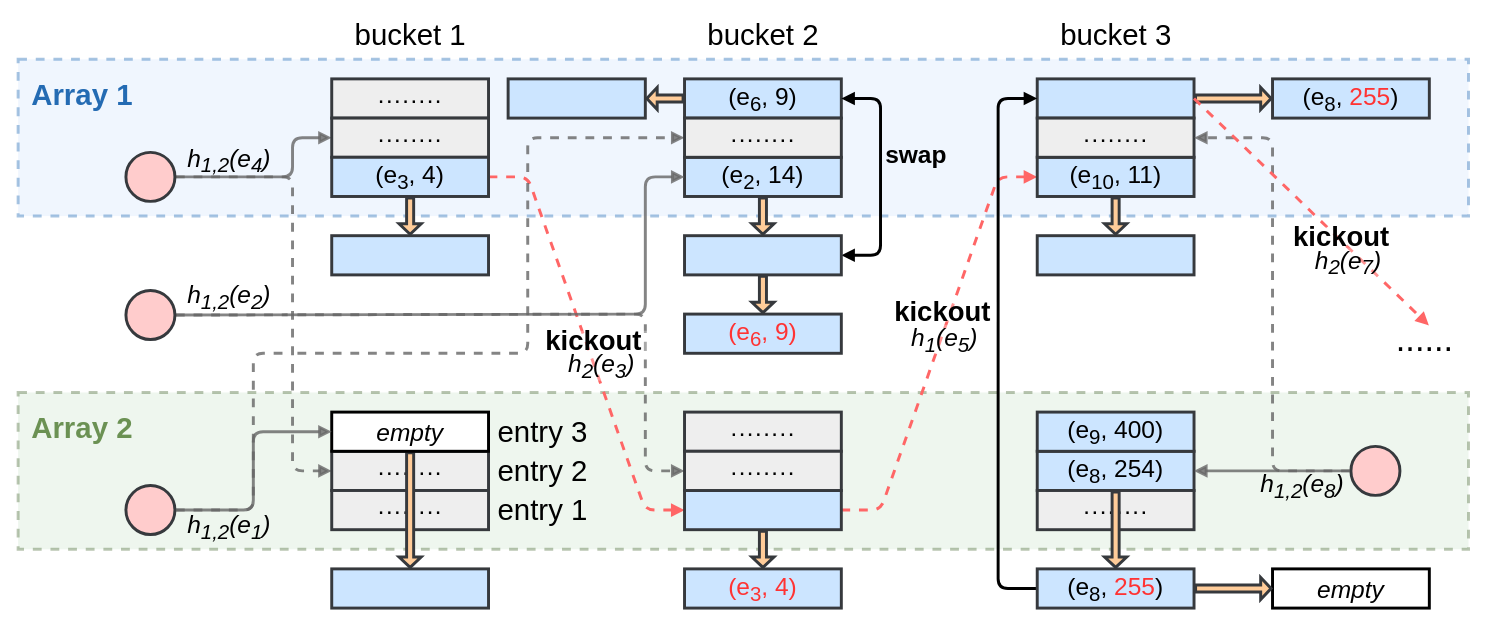
The diagram is 1487 pixels wide and 626 high, and some of its shapes have lost their labels. Here are the shapes that lost their labels. From the top down, the box of each, then its label:
(506, 77, 646, 119): (e 2 , 15)
(1035, 77, 1195, 119): (e 7 , 350)
(124, 150, 176, 202): e 4
(330, 234, 490, 276): (e 4 , 1)
(683, 234, 842, 276): (e 2 , 15 )
(1035, 234, 1195, 276): (e 5 , 11)
(124, 289, 176, 341): e 2
(1349, 444, 1401, 496): e 8
(124, 484, 176, 536): e 1
(683, 489, 842, 531): (e 5 , 13)
(330, 567, 490, 609): (e 1 , 1)
